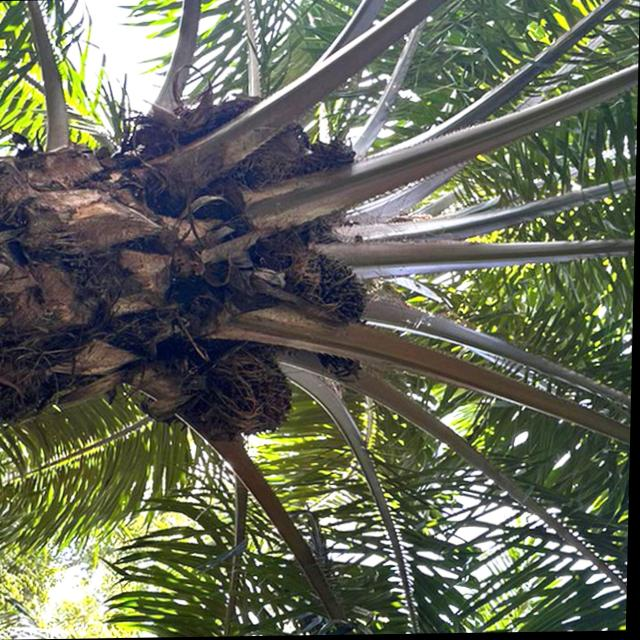unripe: (282, 248, 376, 337)
